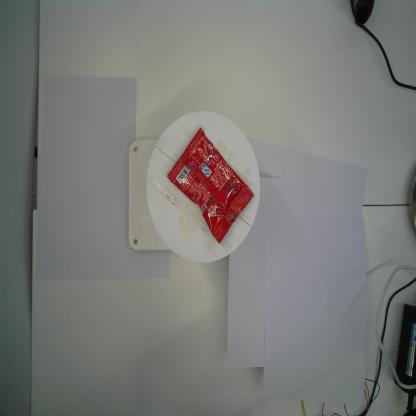Instant Drink: (166, 126, 254, 247)
